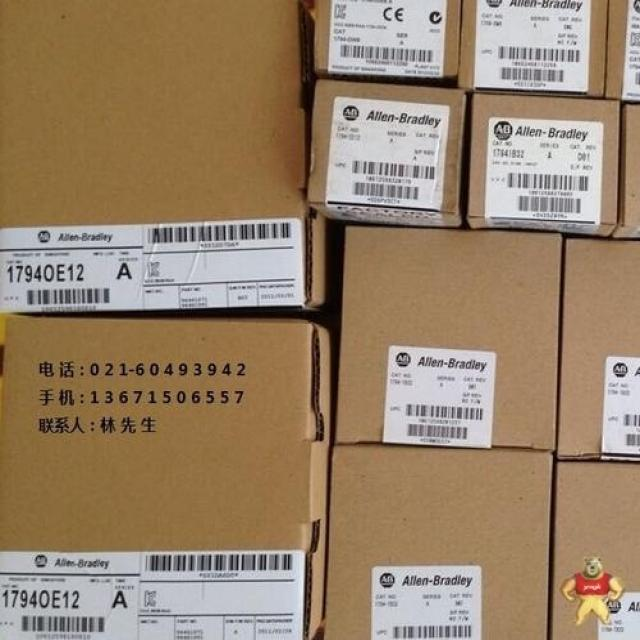box: (0, 314, 331, 639), (0, 0, 328, 313), (335, 227, 560, 450), (323, 445, 555, 639), (307, 79, 467, 228), (467, 94, 620, 238), (558, 238, 639, 461), (551, 461, 639, 639), (457, 1, 609, 98), (314, 0, 461, 77), (611, 104, 639, 242), (606, 1, 639, 100)
